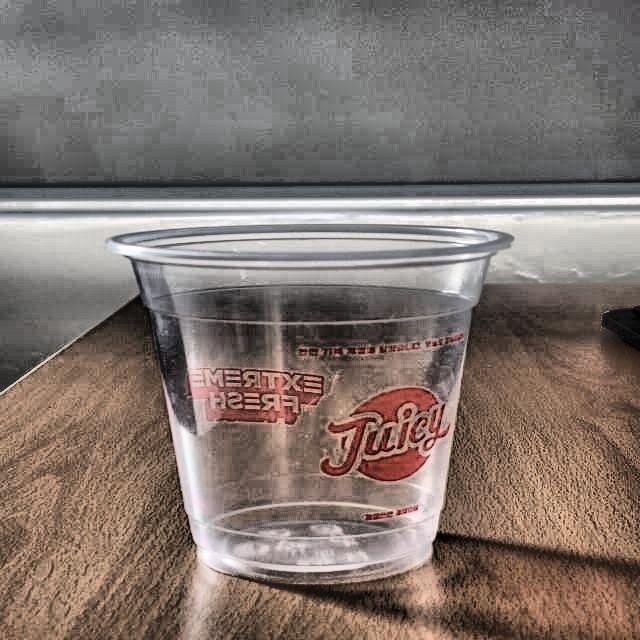plastic cup: (103, 222, 520, 587)
